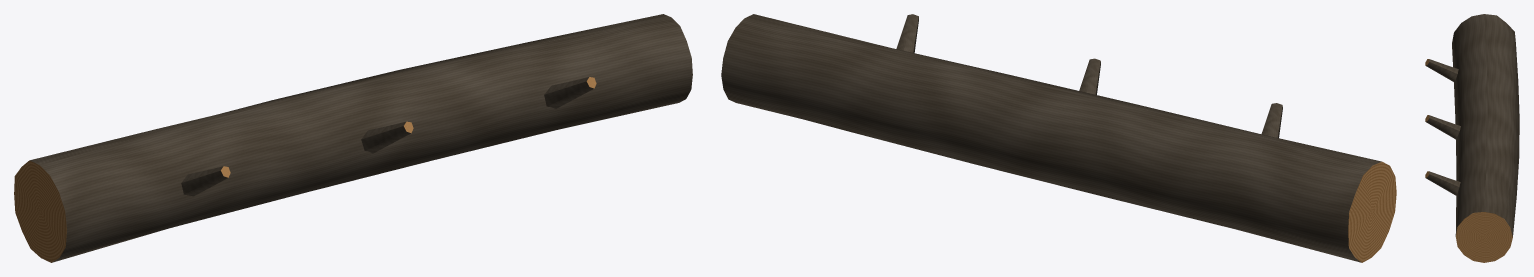
File: SS_Log_Fresh_01_LOD1.fbx
3 views of the same model, side by side, from view 1: azimuth 30°, elevation 25°; view 2: azimuth 150°, elevation 25°; view 3: azimuth 270°, elevation 25° (orthographic). The views are drawn at different scales.
Parts seen in each view (by area): view 1: SS_Log_Fresh_01_LOD1_Mesh; view 2: SS_Log_Fresh_01_LOD1_Mesh; view 3: SS_Log_Fresh_01_LOD1_Mesh.
Part boxes in pixels (box(x1,y1,x2,y2)): SS_Log_Fresh_01_LOD1_Mesh: box(14, 14, 692, 262); SS_Log_Fresh_01_LOD1_Mesh: box(721, 14, 1396, 262); SS_Log_Fresh_01_LOD1_Mesh: box(1425, 14, 1519, 262).
Size of the model in its own units: 311 by 44.69 by 63.89.
